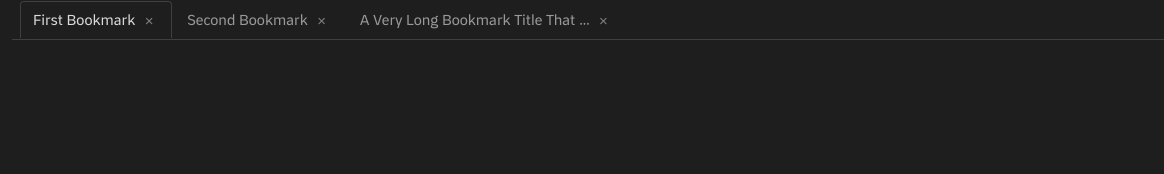
Scenario: BookmarkTabs › context menu › opens context menu on right-click
This screenshot has width=1164, height=174.
Right-click the text "Second Bookmark" at (247, 20), box [187,11,308,29]
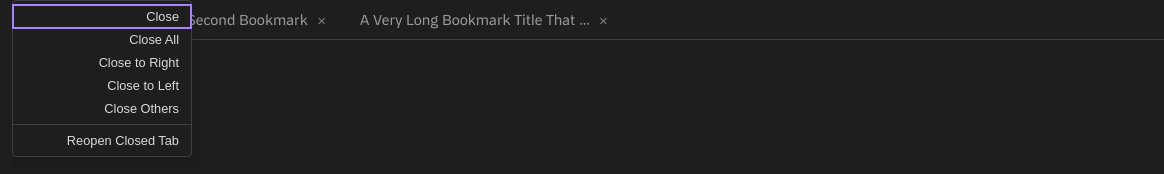
Check: the menu is shown, box [12,0,192,157]
Check: the menu item "Close" is shown, box [13,5,191,28]
